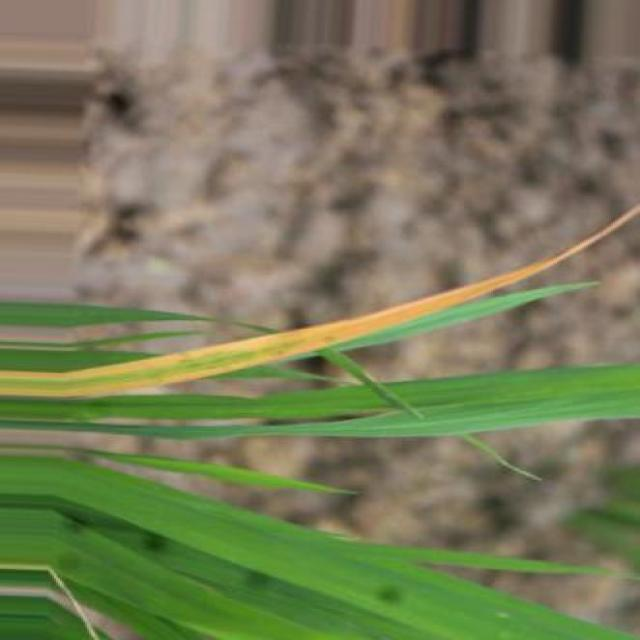Rice Tungro: (0, 207, 639, 397)
